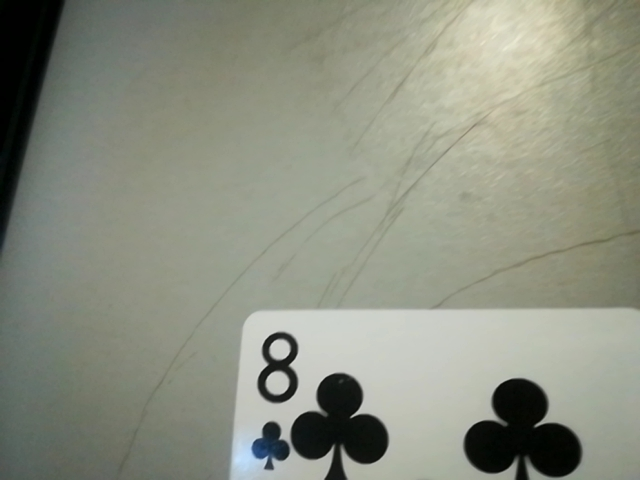mh 8: (238, 321, 306, 480)
